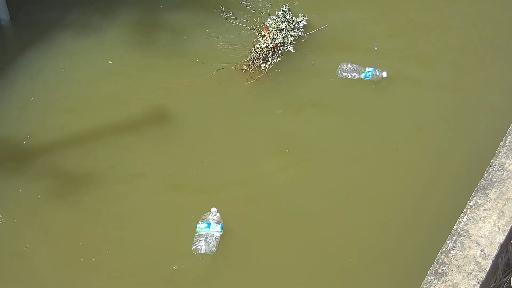plastic: (191, 207, 224, 258), (339, 61, 403, 80)
twig: (199, 0, 328, 85)
